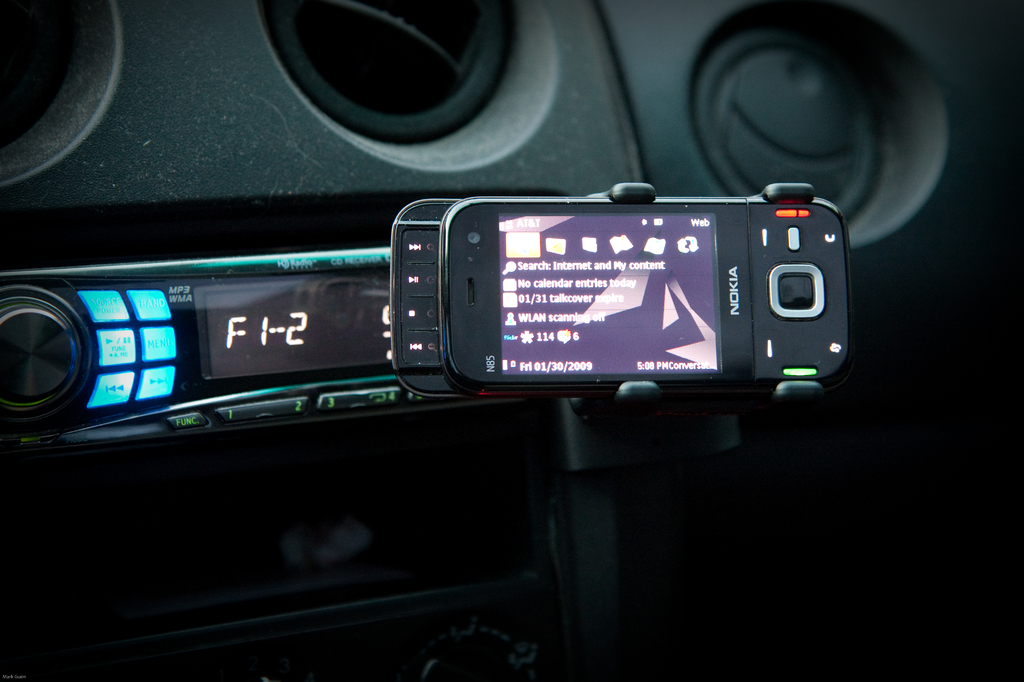person: (276, 473, 377, 577)
